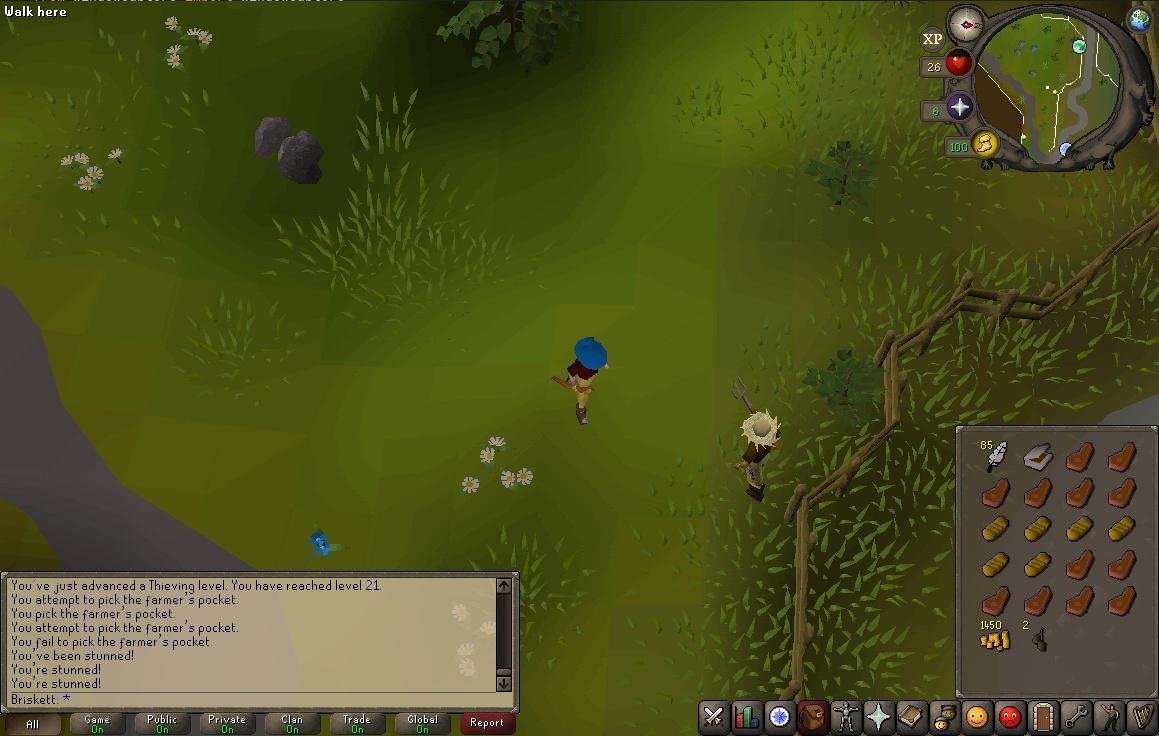Farmer: (733, 403, 782, 498)
